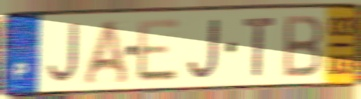A: (81, 18, 132, 87)
B: (282, 13, 325, 80)
E: (136, 16, 182, 84)
J: (185, 17, 222, 82), (45, 21, 81, 86)
T: (242, 15, 278, 79)
